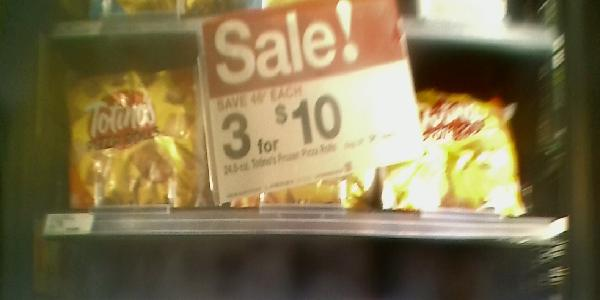icecream: (201, 41, 380, 218), (55, 59, 204, 218), (380, 68, 531, 222)
